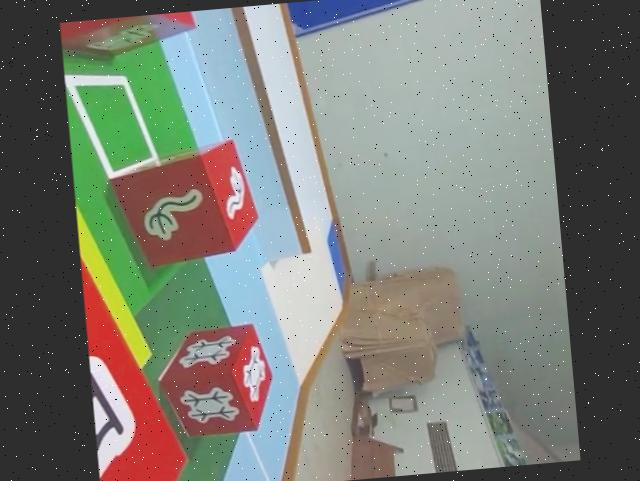R2 Real: (102, 133, 265, 272), (155, 317, 279, 439), (59, 10, 200, 60)
